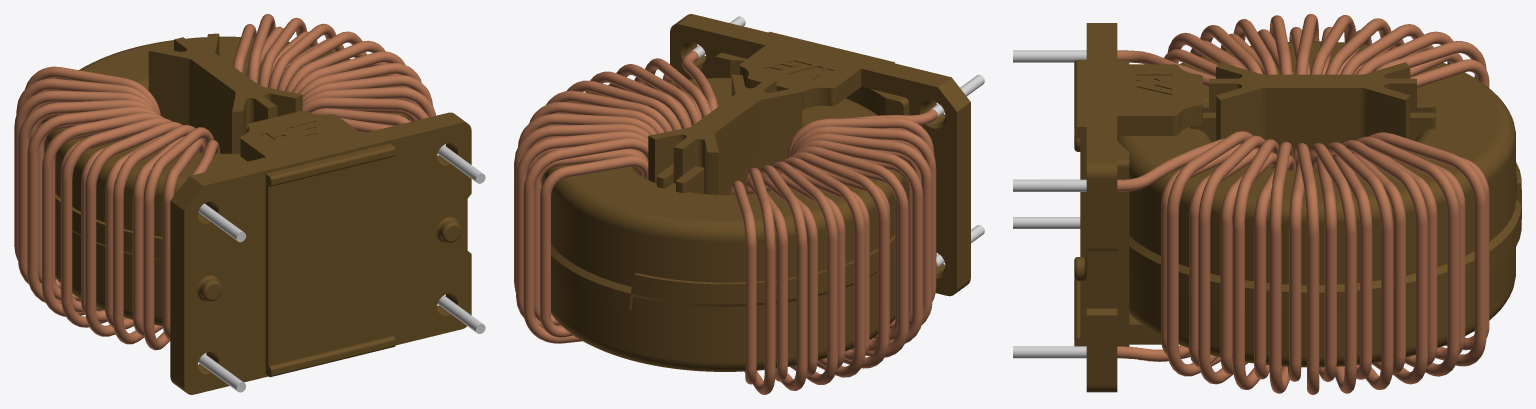
Rendered from WE-CMB HV Common Mode Power Line Choke.gltf.
3 renders of one model, left to right at view 1: azimuth 30°, elevation 25°; view 2: azimuth 150°, elevation 25°; view 3: azimuth 270°, elevation 25°, orthographic. The views are drawn at different scales.
Visible parts, largest first — view 1: t31-base, turns001, turns, T31_Spacer, T31_Case, T31_Case001; view 2: turns001, T31_Case, turns, t31-base, T31_Case001, T31_Spacer; view 3: turns, T31_Case, t31-base, turns001, T31_Spacer, T31_Case001.
Part boxes in pixels (x1,y1,x2,y2): t31-base: (170, 111, 471, 394); turns001: (14, 66, 245, 392); turns: (232, 14, 485, 333); T31_Spacer: (148, 33, 302, 153); T31_Case: (42, 36, 408, 236); T31_Case001: (55, 194, 162, 326); turns001: (730, 74, 984, 394); T31_Case: (541, 77, 906, 312); turns: (514, 16, 745, 343); t31-base: (670, 14, 970, 296); T31_Case001: (551, 235, 895, 371); T31_Spacer: (648, 74, 801, 194); turns: (1013, 131, 1489, 394); T31_Case: (1117, 41, 1521, 314); t31-base: (1074, 23, 1202, 392); turns001: (1013, 14, 1489, 228); T31_Spacer: (1209, 62, 1416, 158); T31_Case001: (1129, 162, 1521, 367).
Size of the model in its own units: 0.0382 by 0.022 by 0.0415.
